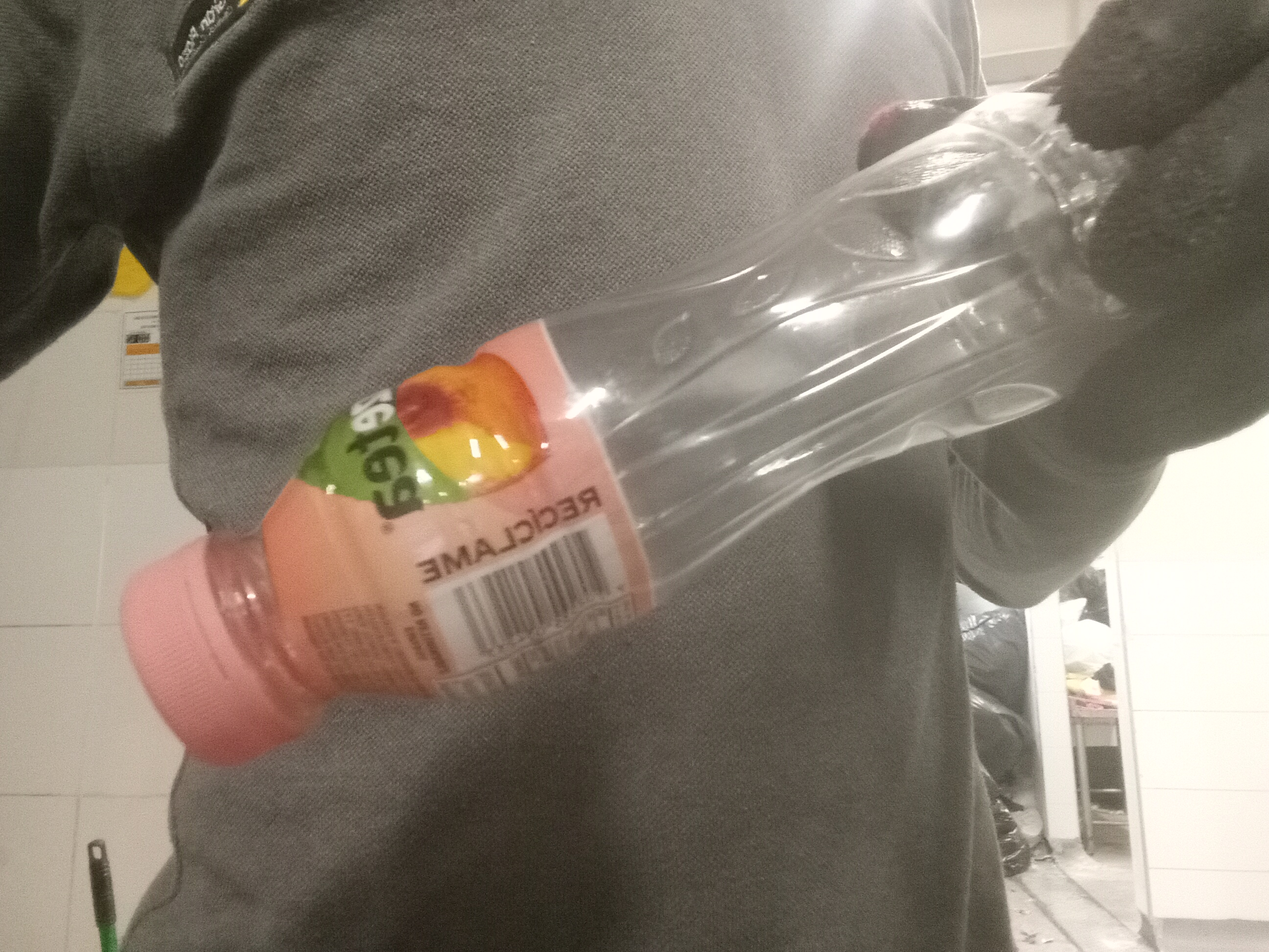Plastico: (119, 92, 1155, 769)
